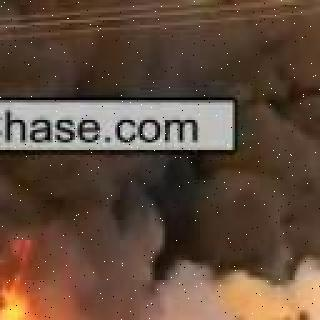smoke: (0, 5, 320, 96), (0, 159, 318, 248), (114, 250, 278, 320)
